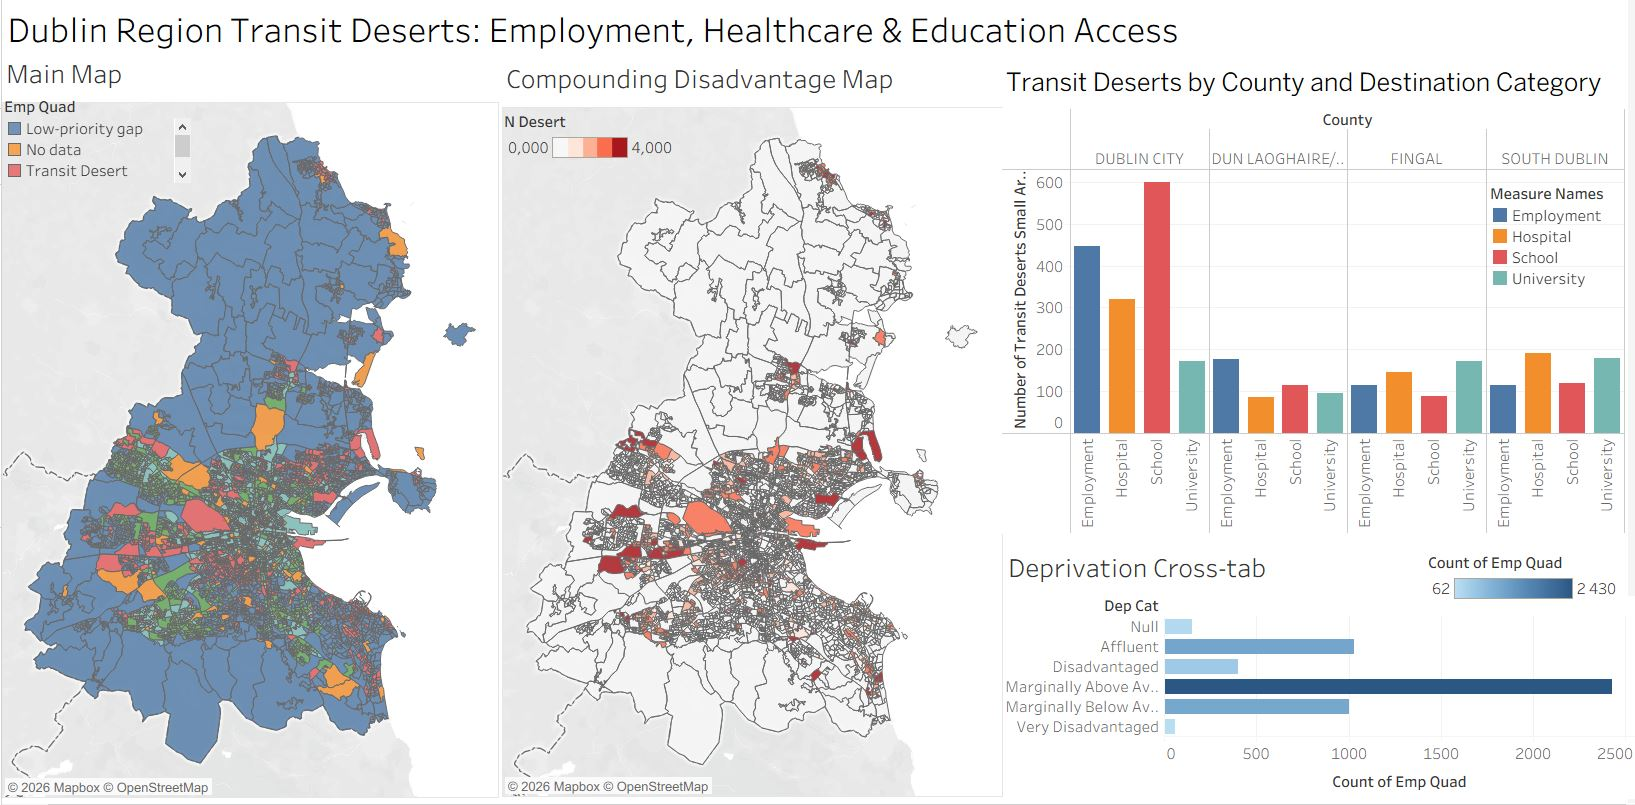

The dashboard page shown, as its layout file describes it:
{"tool":"tableau","page":{"name":"Dashboard 1","canvas":[1000,1000],"units":"permille","ordinal":0},"visuals":[{"type":"text","box":[10.4,0,899.5,77]},{"type":"worksheet","title":"Sheet 1","mark":"Automatic","box":[9.1,67.1,302.9,926.7]},{"type":"worksheet","title":"Sheet 2","mark":"Automatic","box":[313.8,73.3,305.3,919.2]},{"type":"worksheet","title":"Sheet 3","mark":"Automatic","cols":["county"],"box":[618.5,79.5,379.7,586.3]},{"type":"legend","title":"Sheet 1","param":"[federated.0m9xm0g0j60h5b1aycl6r1kil38e].[none:emp_quad:nk]","box":[10.4,121.7,115.2,108.1]},{"type":"legend","title":"Sheet 2","param":"[federated.0m9xm0g0j60h5b1aycl6r1kil38e].[none:n_desert:qk]","box":[315.1,140.4,105.4,82]},{"type":"legend","title":"Sheet 3","param":"[federated.0m9xm0g0j60h5b1aycl6r1kil38e].[:Measure Names]","box":[915.9,229.8,85.3,131.7]},{"type":"worksheet","title":"Sheet 4","mark":"Automatic","rows":["dep_cat"],"cols":["emp_quad"],"box":[619.7,680.8,384.5,316.8]},{"type":"legend","title":"Sheet 4","param":"[federated.0m9xm0g0j60h5b1aycl6r1kil38e].[cnt:emp_quad:qk]","box":[878.1,688.2,117.6,82]}]}

Visuals, with their boxes on the dashboard's canvas, which has no fixed pixel size, in thousandths of its width and height (x1, y1, x2, y2). These are canvas units, not pixel positions in the 1635x805 screenshot, which may show the page scaled, cropped or inside an application window:
text: {"left": 10, "top": 0, "right": 910, "bottom": 77}
"Sheet 1" worksheet: {"left": 9, "top": 67, "right": 312, "bottom": 994}
"Sheet 2" worksheet: {"left": 314, "top": 73, "right": 619, "bottom": 992}
"Sheet 3" worksheet: {"left": 618, "top": 80, "right": 998, "bottom": 666}
"Sheet 1" legend: {"left": 10, "top": 122, "right": 126, "bottom": 230}
"Sheet 2" legend: {"left": 315, "top": 140, "right": 420, "bottom": 222}
"Sheet 3" legend: {"left": 916, "top": 230, "right": 1001, "bottom": 362}
"Sheet 4" worksheet: {"left": 620, "top": 681, "right": 1004, "bottom": 998}
"Sheet 4" legend: {"left": 878, "top": 688, "right": 996, "bottom": 770}
